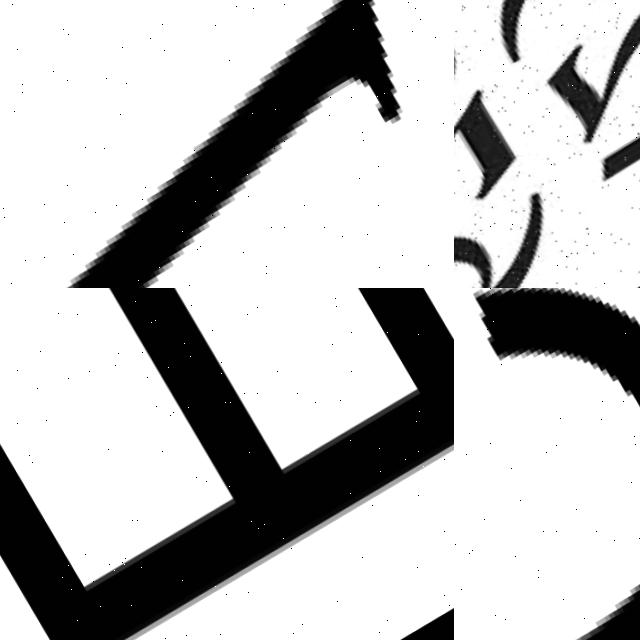1: (0, 0, 454, 288), (574, 50, 640, 206)
2: (521, 0, 640, 159)
3: (454, 0, 640, 77)
6: (454, 171, 587, 288)
7: (454, 86, 535, 288)
E: (0, 288, 454, 640)
